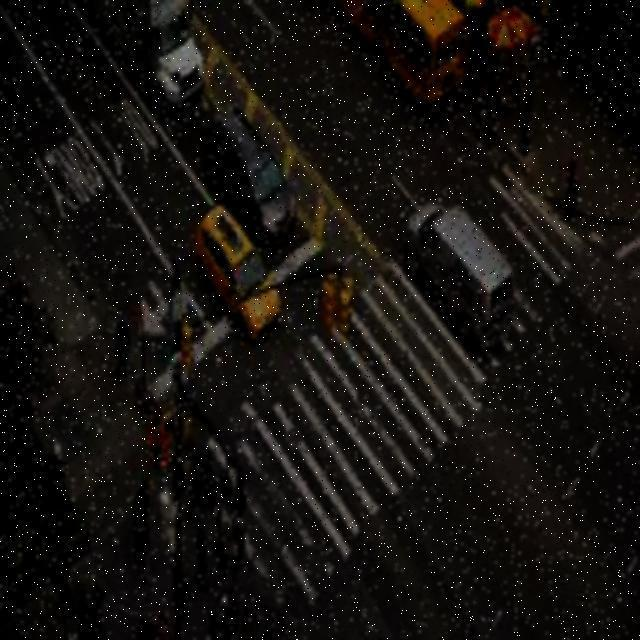Pedestrian crosswalk: (92, 0, 594, 637)
